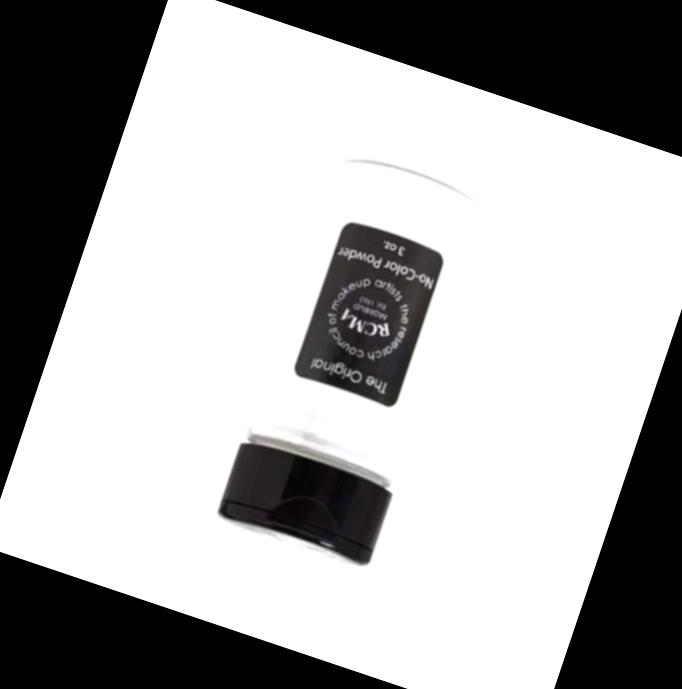cosmetic: (207, 149, 496, 571)
